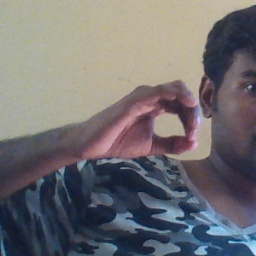O: (91, 78, 204, 161)
